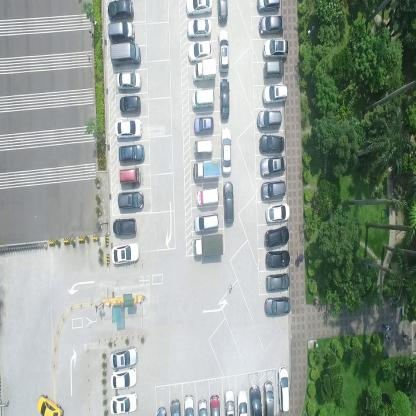car: (192, 231, 223, 257), (110, 240, 139, 266), (110, 42, 140, 67), (109, 348, 137, 373), (110, 365, 138, 390), (264, 224, 290, 249), (259, 154, 286, 178), (110, 391, 138, 414), (113, 118, 142, 140), (192, 159, 219, 182), (263, 296, 291, 318), (106, 0, 134, 22), (277, 366, 290, 412), (220, 127, 232, 176), (35, 394, 63, 415), (192, 58, 216, 82), (262, 82, 287, 105), (265, 201, 290, 224), (265, 271, 290, 294), (259, 15, 285, 37), (256, 109, 282, 131), (116, 191, 143, 212), (107, 20, 134, 41), (187, 40, 212, 62), (263, 38, 288, 60), (261, 179, 286, 201), (118, 144, 144, 165), (222, 181, 234, 226), (190, 89, 215, 110), (265, 250, 291, 270), (193, 212, 219, 232), (258, 135, 285, 154), (195, 188, 218, 210), (187, 18, 211, 39), (116, 70, 141, 90), (218, 29, 229, 73), (249, 382, 263, 415), (112, 217, 136, 236), (118, 167, 140, 187), (263, 60, 285, 80), (219, 78, 229, 120), (185, 0, 213, 15), (118, 96, 140, 114), (263, 380, 274, 415), (194, 116, 214, 135), (255, 0, 281, 14), (193, 139, 213, 157), (224, 386, 236, 416), (216, 0, 229, 25), (237, 389, 248, 415), (209, 393, 221, 415), (183, 393, 195, 415), (169, 398, 181, 416), (197, 397, 208, 415)
